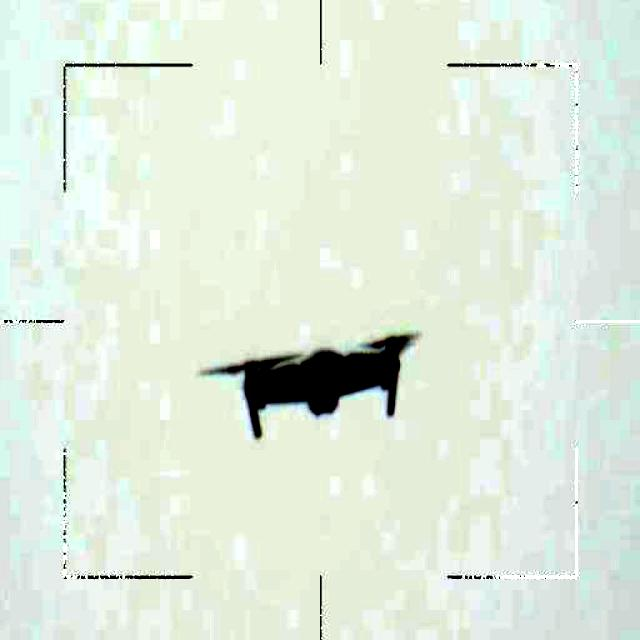bird: (204, 319, 435, 445)
